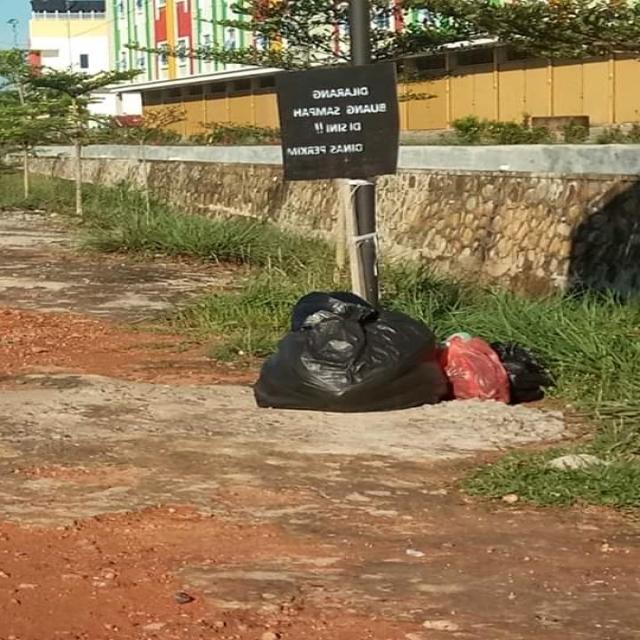Vinyl: (253, 286, 457, 414), (430, 333, 553, 402)
